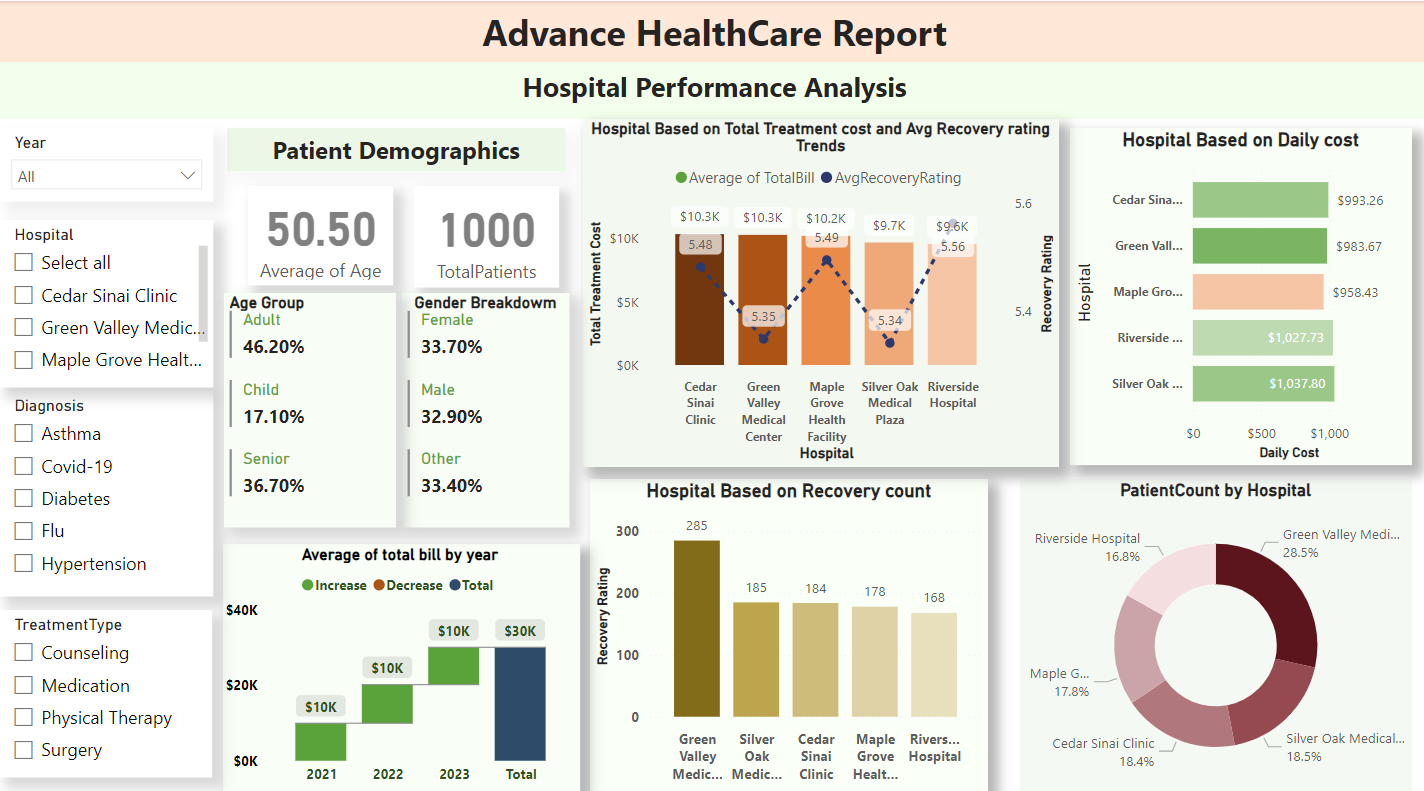

This screenshot's page, from the dashboard's own definition file:
{"tool":"powerbi","page":{"name":"Hospital Performance","canvas":[1280,720],"ordinal":0},"visuals":[{"type":"textbox","box":[0,0,1279.7,68.1],"z":0},{"type":"textbox","box":[0,54.6,1279.7,51],"z":1000},{"type":"textbox","box":[203.3,113.7,302.7,39.4],"z":2000},{"type":"slicer","fields":{"Values":["Sheet1.AdmissionDate.Variation.Date Hierarchy.Year"]},"box":[0,113.7,190.7,66.3],"z":3000},{"type":"card","fields":{"Values":["Avg(Sheet1.Age)"]},"box":[222.2,165.9,129.8,89.5],"z":4000},{"type":"slicer","fields":{"Values":["Sheet1.Diagnosis"]},"box":[0,349.3,190.7,184.5],"z":5000},{"type":"slicer","fields":{"Values":["Sheet1.TreatmentType"]},"box":[0,545.4,190.4,150],"z":6000},{"type":"slicer","fields":{"Values":["Sheet1.Hospital"]},"box":[0,196.1,190.7,150.4],"z":7000},{"type":"card","fields":{"Values":["Sheet1.TotalPatients"]},"box":[370.8,165.9,129.8,90.9],"z":8000},{"type":"multiRowCard","title":"Gender Breakdowm","fields":{"Values":["Sheet1.Gender","CountNonNull(Sheet1.Gender)"]},"box":[360,261.5,149.6,209.6],"z":9000},{"type":"multiRowCard","title":"Age Group","fields":{"Values":["Sheet1.Age Group","CountNonNull(Sheet1.Age Group)"]},"box":[200.6,261.5,154,209.6],"z":10000},{"type":"waterfallChart","title":"Average of total bill by year","fields":{"Category":["Sheet1.AdmissionDate.Variation.Date Hierarchy.Year"],"Y":["Avg(Sheet1.TotalBill)"]},"box":[199.7,486.3,319.7,222.1],"z":11000},{"type":"lineClusteredColumnComboChart","title":"Hospital Based on Total Treatment cost and Avg Recovery rating Trends","fields":{"Category":["Sheet1.Hospital"],"Y2":["Sheet1.AvgRecoveryRating"],"Y":["Avg(Sheet1.TotalBill)"]},"box":[522.3,105.3,425.6,311.6],"z":12000},{"type":"clusteredColumnChart","title":"Hospital Based on Recovery count","fields":{"Category":["Sheet1.Hospital"],"Y":["CountNonNull(Sheet1.RecoveryRating)"]},"box":[528.1,428.5,356.4,279.9],"z":13000},{"type":"clusteredBarChart","title":"Hospital Based on Daily cost","fields":{"Category":["Sheet1.Hospital"],"Y":["Avg(Sheet1.DailyCost)"]},"box":[958,114,305.9,301.5],"z":14000},{"type":"donutChart","fields":{"Category":["Sheet1.Hospital"],"Y":["Sheet1.PatientCount"]},"box":[913.3,428.5,350.6,279.9],"z":15000}]}

Visuals, with their boxes in screenshot pixels (x1, y1, x2, y2), scaled from the page's 1280x720 canvas onto the 1424x791 screenshot:
textbox: (0, 0, 1423, 75)
textbox: (0, 60, 1423, 116)
textbox: (226, 125, 563, 168)
slicer - Sheet1.AdmissionDate.Variation.Date Hierarchy.Year: (0, 125, 212, 198)
card - Avg(Sheet1.Age): (247, 182, 392, 281)
slicer - Sheet1.Diagnosis: (0, 384, 212, 586)
slicer - Sheet1.TreatmentType: (0, 599, 212, 764)
slicer - Sheet1.Hospital: (0, 215, 212, 381)
card - Sheet1.TotalPatients: (413, 182, 557, 282)
"Gender Breakdowm" multiRowCard: (400, 287, 567, 518)
"Age Group" multiRowCard: (223, 287, 394, 518)
"Average of total bill by year" waterfallChart: (222, 534, 578, 778)
"Hospital Based on Total Treatment cost and Avg Recovery rating Trends" lineClusteredColumnComboChart: (581, 116, 1055, 458)
"Hospital Based on Recovery count" clusteredColumnChart: (588, 471, 984, 778)
"Hospital Based on Daily cost" clusteredBarChart: (1066, 125, 1406, 456)
donutChart - Sheet1.Hospital x Sheet1.PatientCount: (1016, 471, 1406, 778)
